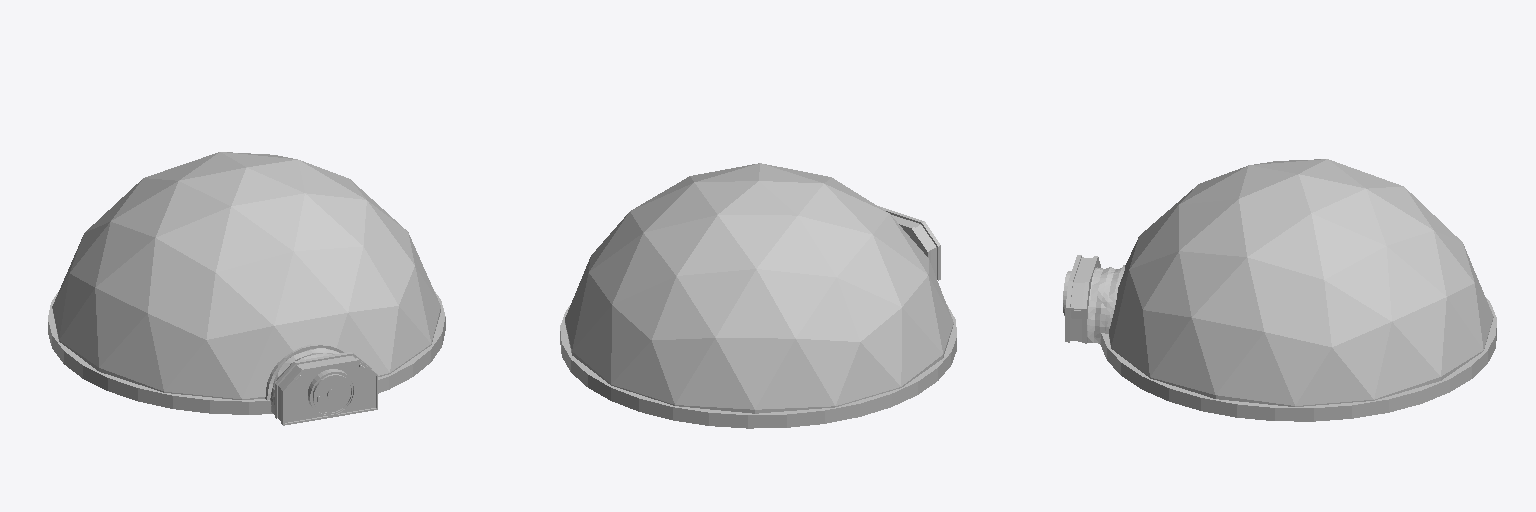
File: dome.obj
3 views of the same model, side by side, from view 1: azimuth 30°, elevation 25°; view 2: azimuth 150°, elevation 25°; view 3: azimuth 270°, elevation 25° (orthographic).
Visible parts, largest first — view 1: GeodesicLT; view 2: GeodesicLT; view 3: GeodesicLT.
Boxes of the visible parts, x1=… form: GeodesicLT: x1=48, y1=152, x2=445, y2=425; GeodesicLT: x1=560, y1=163, x2=956, y2=428; GeodesicLT: x1=1063, y1=159, x2=1496, y2=421.
Bounding box in the file's own units: 46.93 × 21.36 × 51.34.